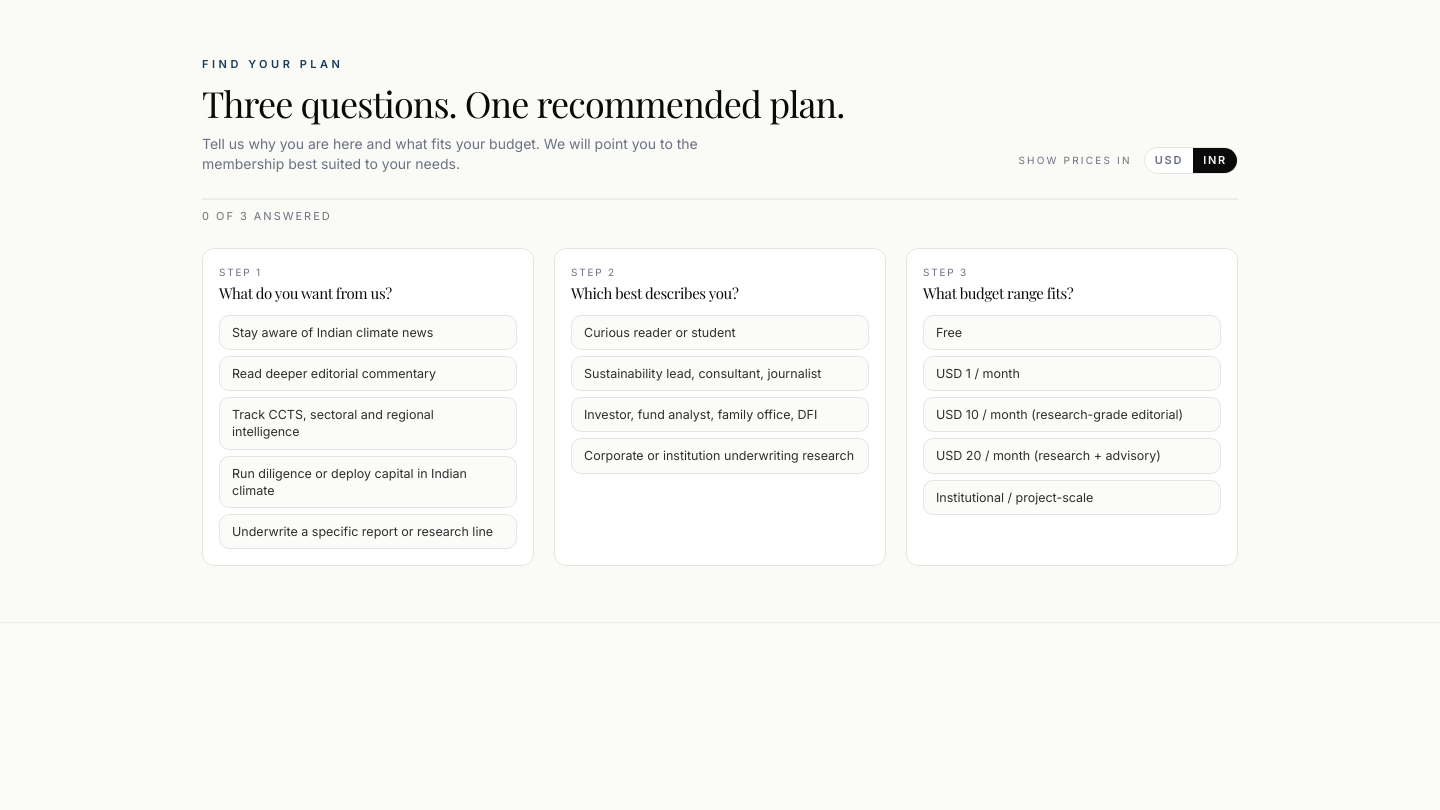
Scenario: TierFinder scoring › respects the budget hard ceiling (Free budget cannot upgrade)
This screenshot has width=1440, height=810.
Click the button "Run diligence or deploy capital in Indian climate".
click(368, 482)  # box left=219, top=456, right=517, bottom=508
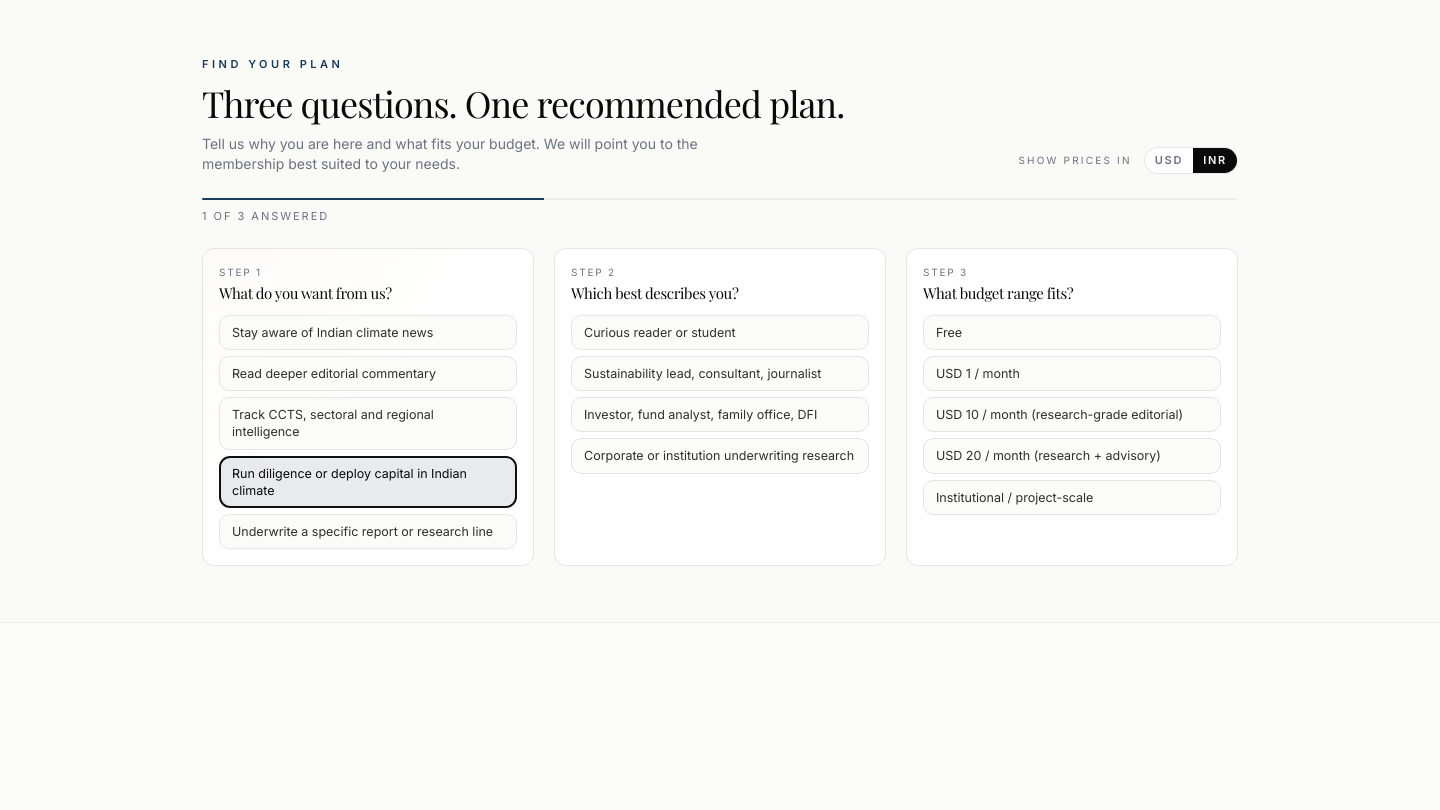
Click the button "Investor, fund analyst, family office, DFI".
click(720, 415)  # box left=571, top=397, right=869, bottom=432
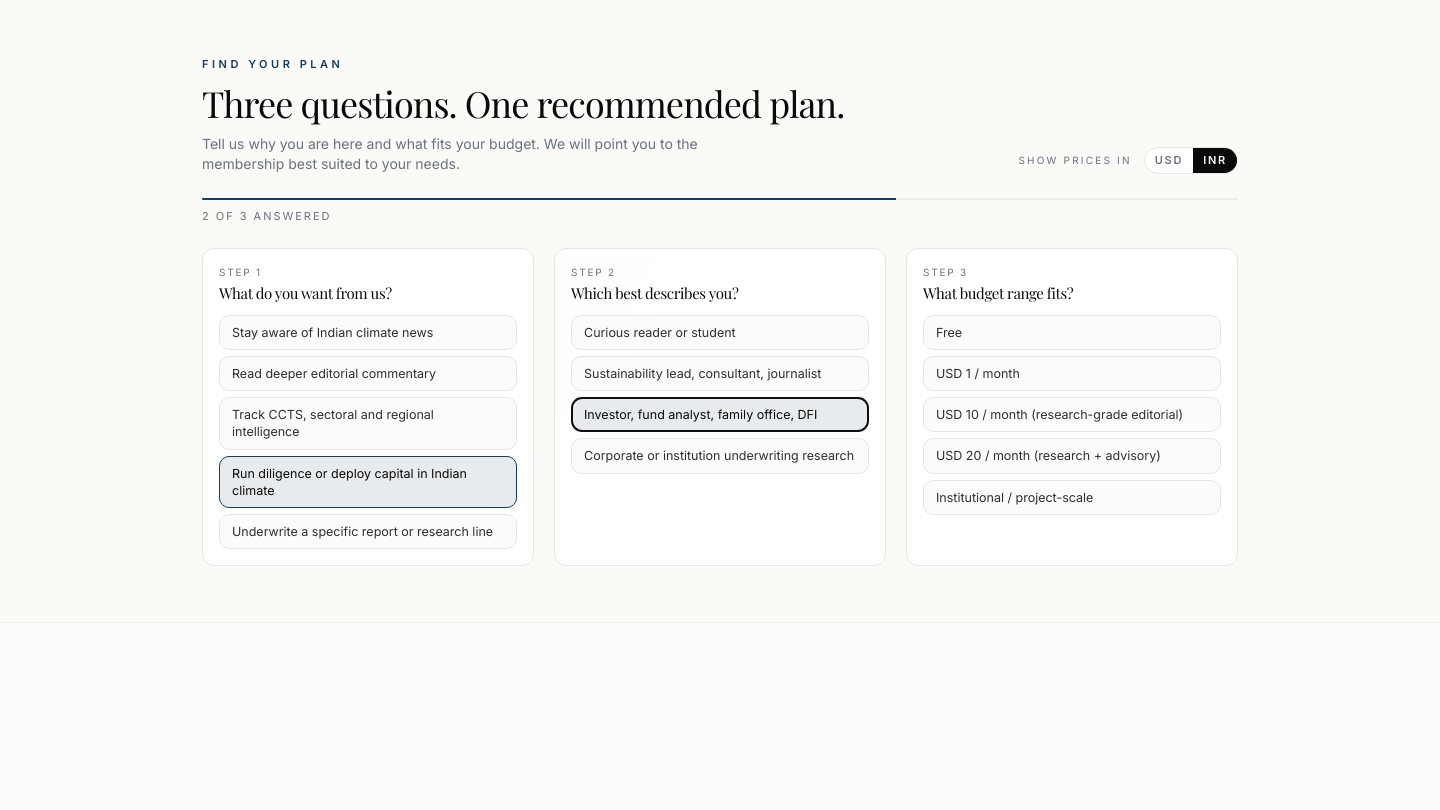
Click the button "Free".
click(949, 332)  # box left=923, top=315, right=1221, bottom=350
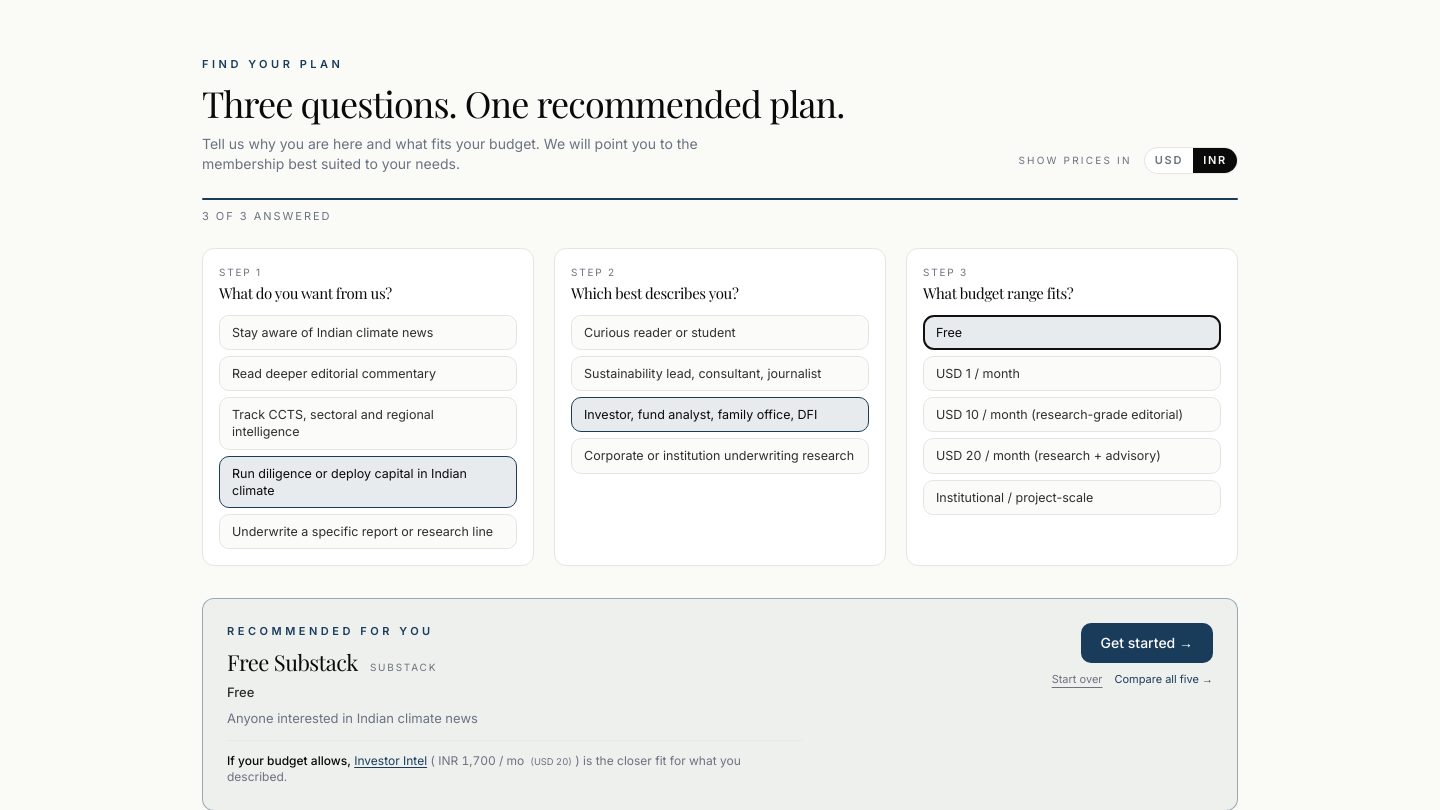
Now the heading "Free Substack" is shown, box left=227, top=646, right=358, bottom=679
